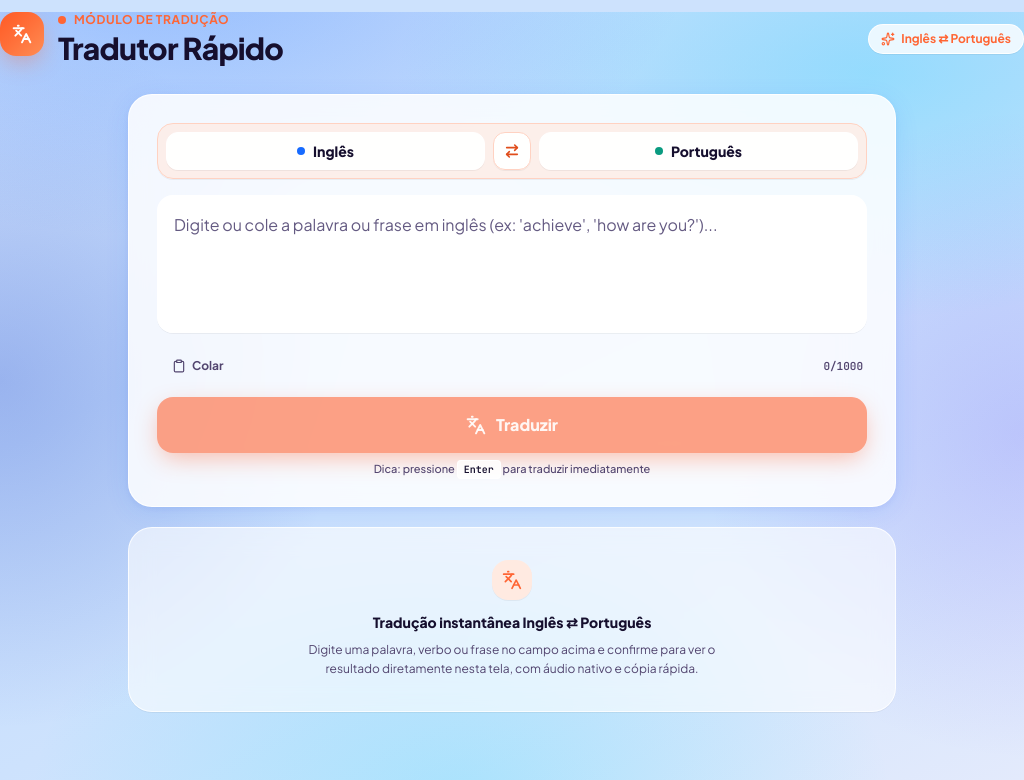
Test: QuickTranslatorView Component Tests › translates immediately when user presses Enter key without shift
Replace the text in the text box with placeholder "Digite ou cole a palavra ou frase em inglês" with "speak" at (512, 264), box [157,195,867,333]
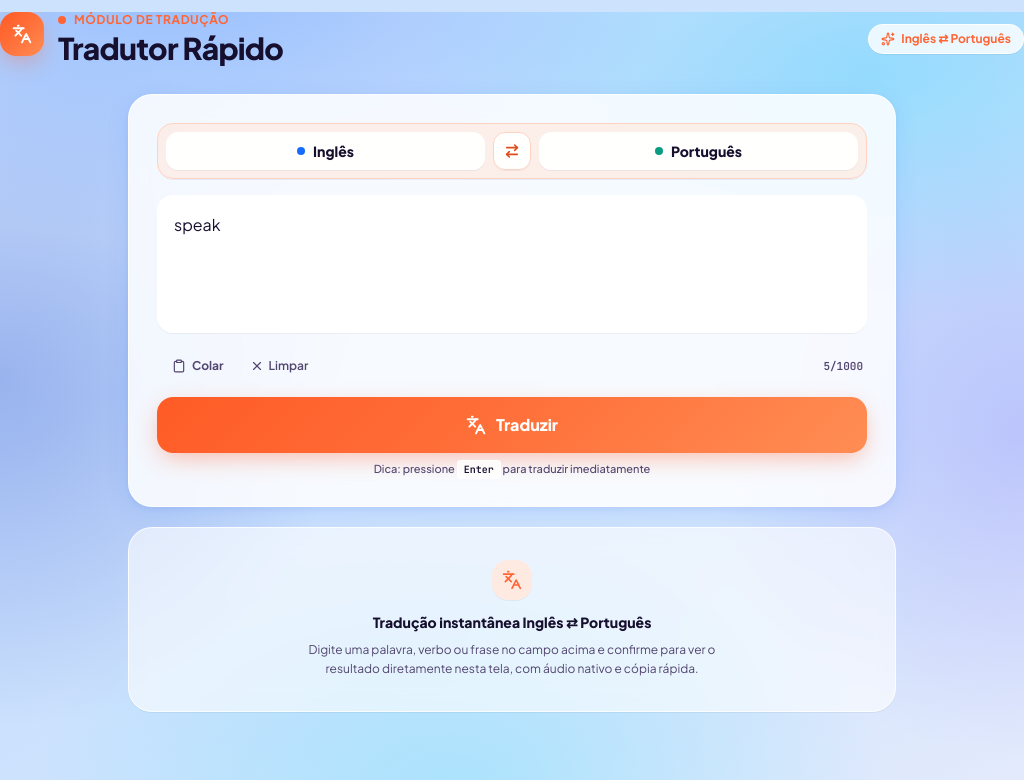
Press Enter in the text box with placeholder "Digite ou cole a palavra ou frase em inglês", box [157,195,867,333]
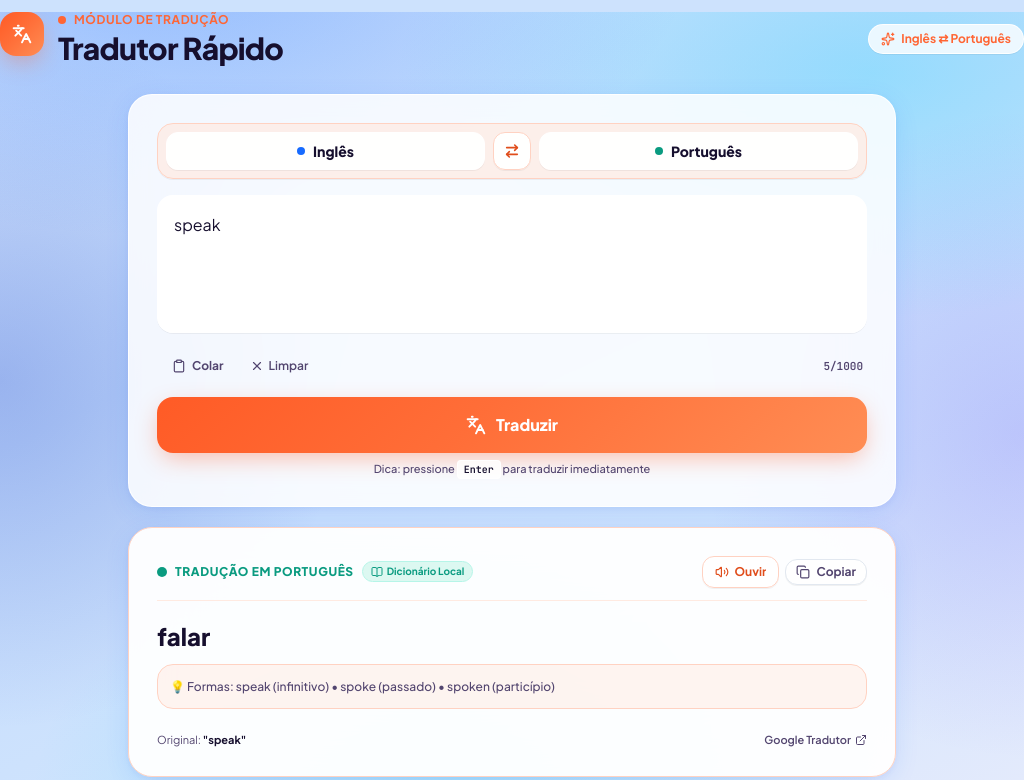
Check: the text "Tradução em Português" is shown, box [175,564,354,580]
Check: the text "falar" is shown, box [157,620,210,650]
